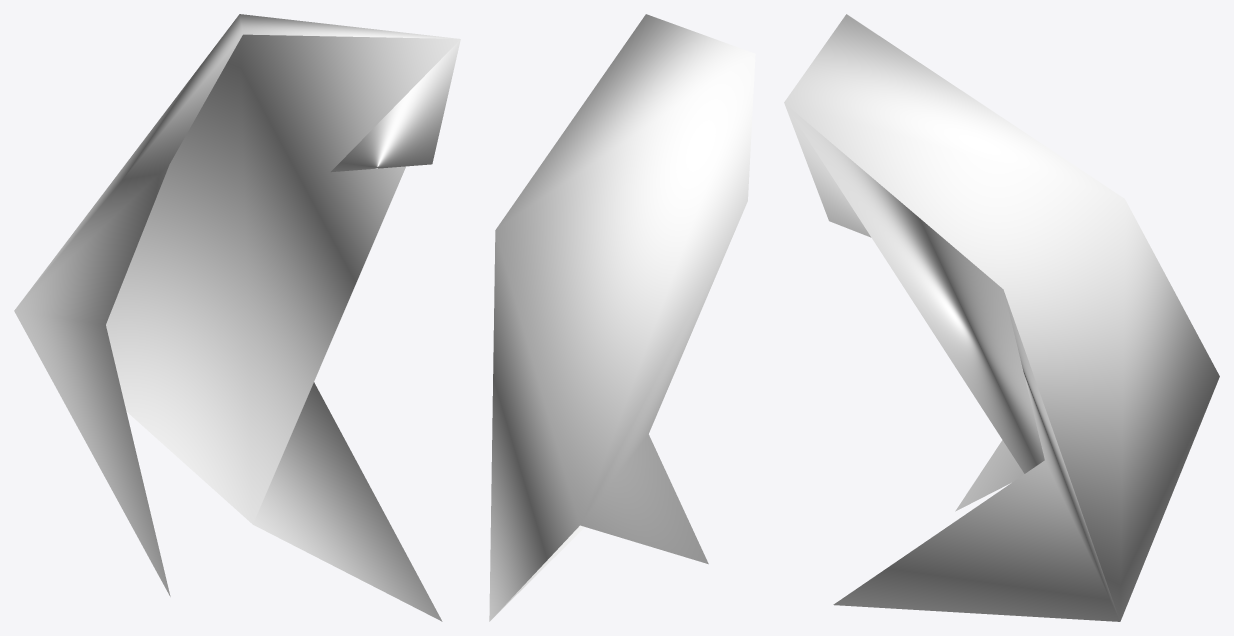
3 views of the same model, side by side, from view 1: azimuth 30°, elevation 25°; view 2: azimuth 150°, elevation 25°; view 3: azimuth 270°, elevation 25° (orthographic). The views are drawn at different scales.
Size of the model in its own units: 0.1902 by 0.534 by 0.3927.
1 material, 1 textured.
